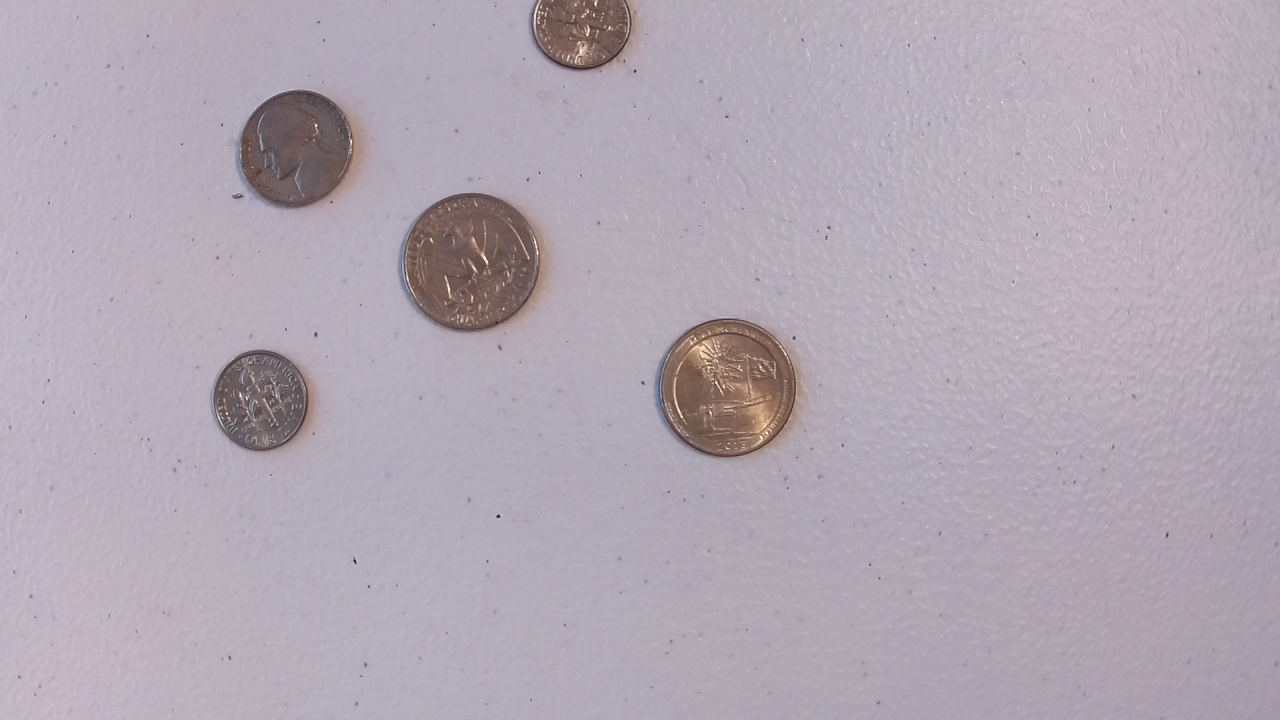dime: (207, 346, 313, 456), (524, 0, 638, 72)
nickel: (229, 87, 359, 213)
quarter: (398, 188, 544, 336), (654, 314, 802, 460)
